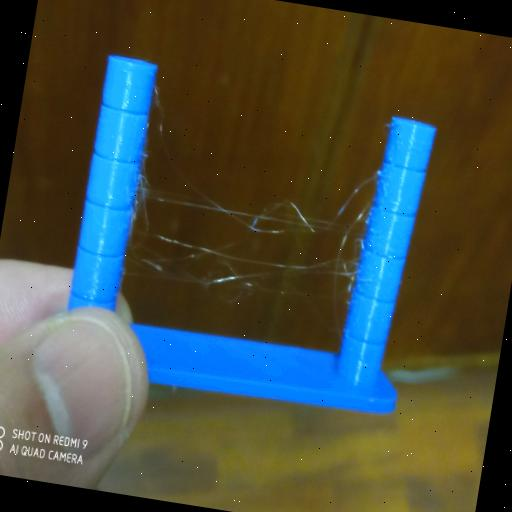stringing: (120, 148, 372, 321)
